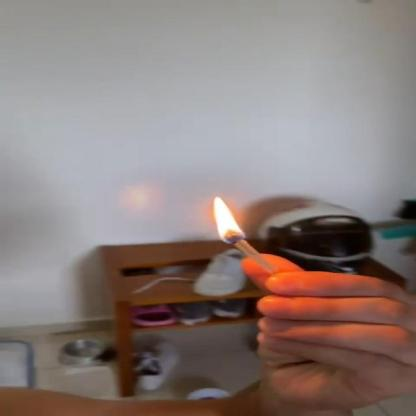fire: (208, 191, 248, 246)
